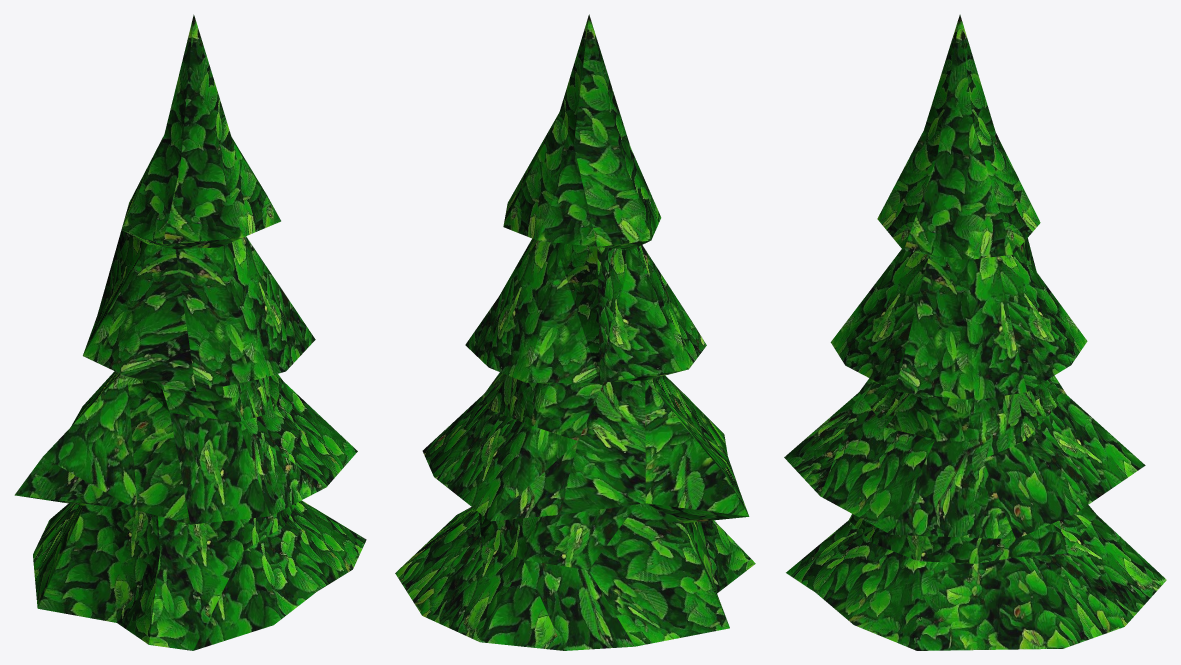
The model's file is tree4.glb.
3 renders of one model, left to right at view 1: azimuth 30°, elevation 25°; view 2: azimuth 150°, elevation 25°; view 3: azimuth 270°, elevation 25°, orthographic. The views are drawn at different scales.
Parts seen in each view (by area): view 1: geometry_0.015; view 2: geometry_0.015; view 3: geometry_0.015.
Part boxes in pixels (x1,y1,x2,y2): geometry_0.015: (14, 14, 366, 650); geometry_0.015: (395, 14, 755, 650); geometry_0.015: (784, 14, 1166, 650).
Bounding box in the file's own units: 0.8655 × 1.47 × 0.8729.
Materials: 1 (1 with a texture image).
